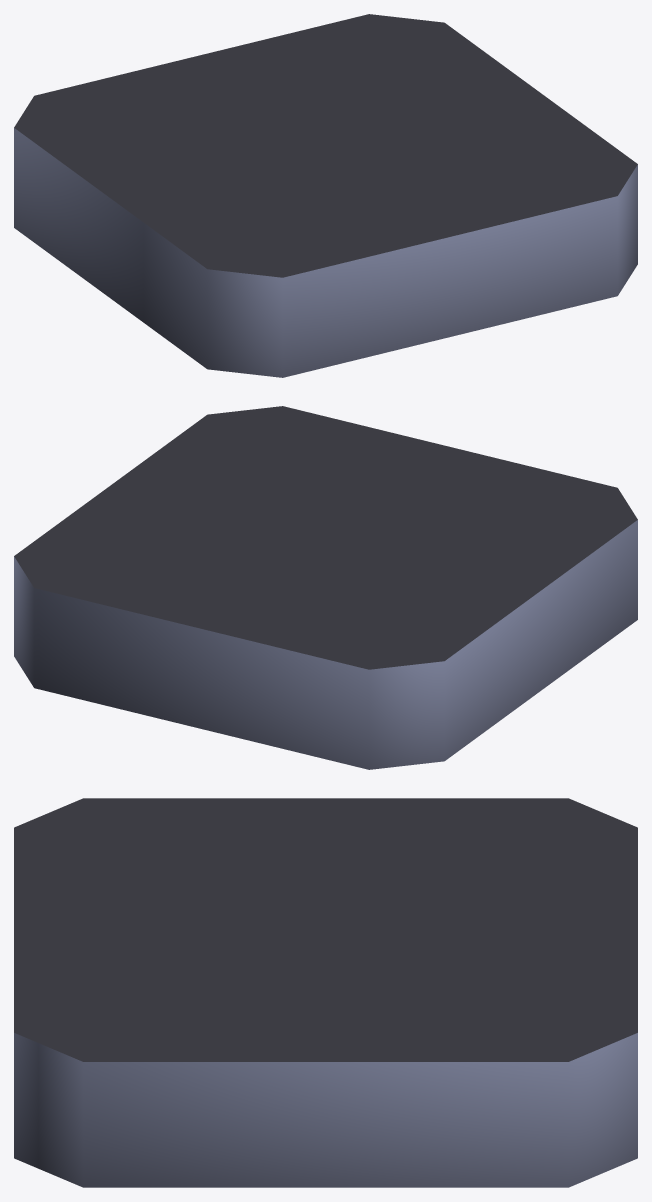
Rendered from debris-plate-small-a.glb.
3 renders of one model, top to bottom at view 1: azimuth 30°, elevation 25°; view 2: azimuth 150°, elevation 25°; view 3: azimuth 270°, elevation 25°, orthographic. The views are drawn at different scales.
Parts seen in each view (by area): view 1: debris-plate-small-a; view 2: debris-plate-small-a; view 3: debris-plate-small-a.
Boxes of the visible parts, x1,y1,x2,y2 form: debris-plate-small-a: [14, 14, 637, 377]; debris-plate-small-a: [14, 406, 637, 769]; debris-plate-small-a: [14, 798, 637, 1187].
Bounding box in the file's own units: 0.45 × 0.1 × 0.45.
